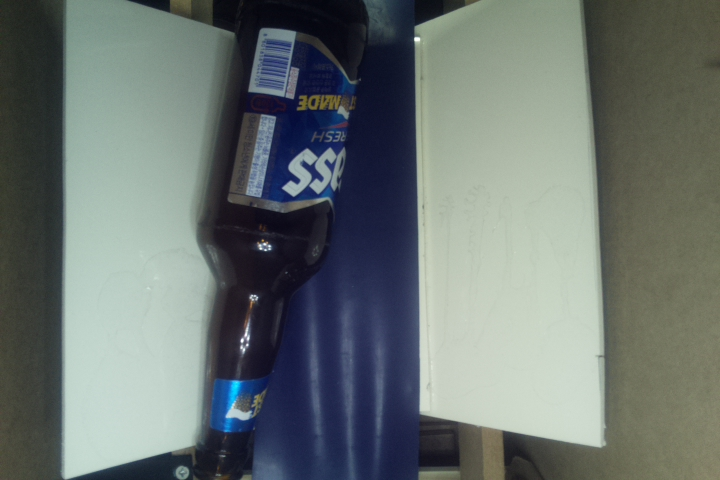makju: (189, 1, 374, 478)
